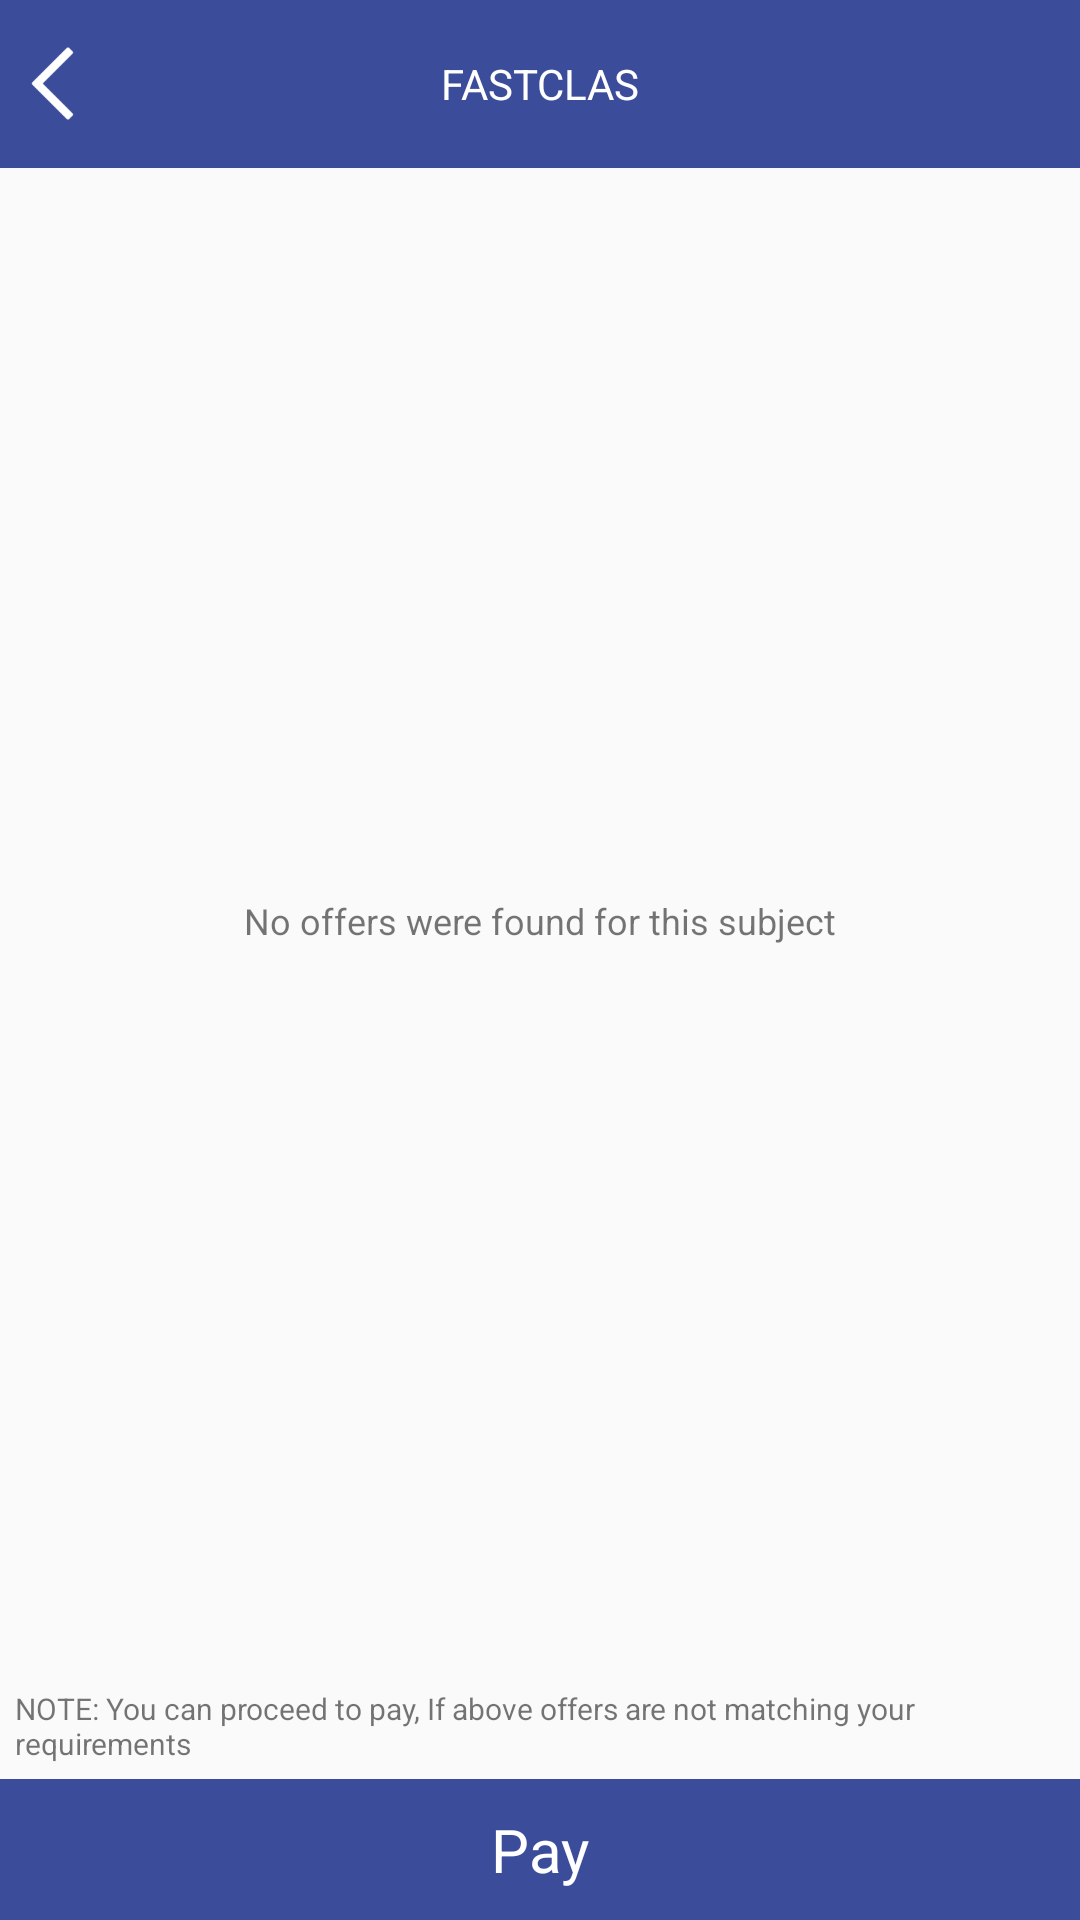

Screen size 1080 x 1920. Icon name, then its box in pixels as (x1, y1, x2, y2):
back: (31, 47, 74, 120)
